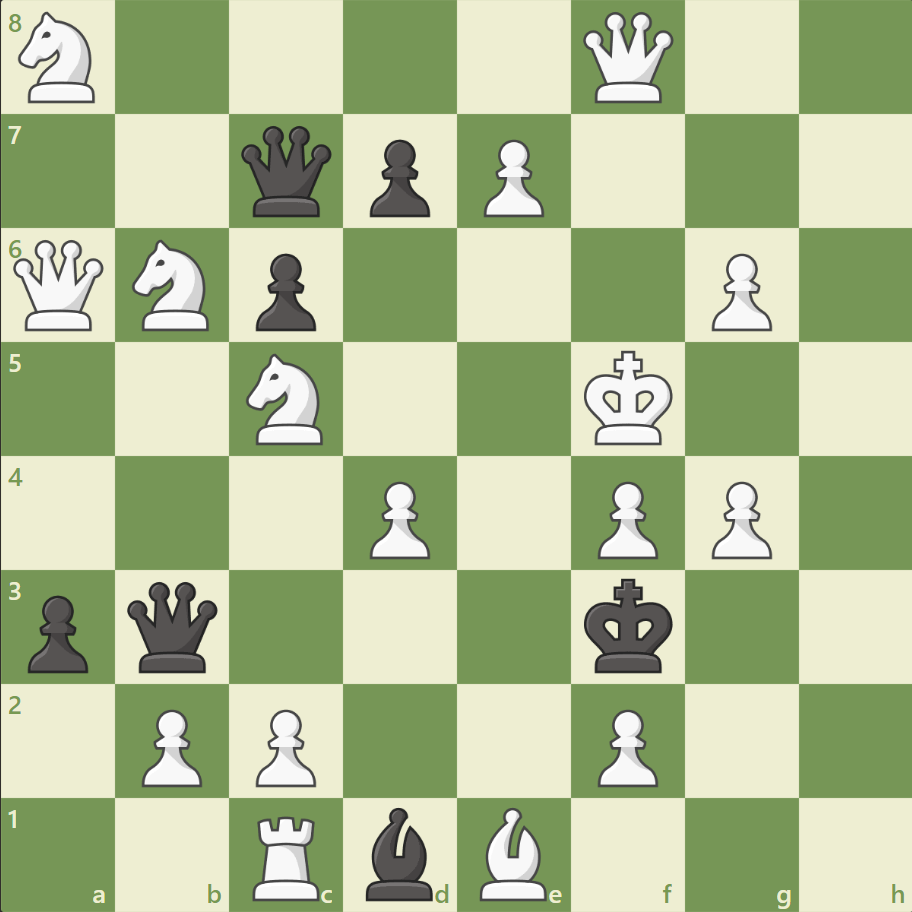B: (471, 801, 555, 904)
K: (579, 344, 679, 452)
N: (124, 234, 222, 337), (11, 7, 108, 110), (238, 348, 335, 450)
P: (474, 132, 549, 223), (701, 246, 776, 337), (701, 473, 776, 564), (133, 700, 208, 791), (247, 700, 322, 791), (361, 473, 435, 564), (588, 473, 662, 564), (588, 700, 662, 791)
Q: (578, 9, 677, 108), (10, 236, 109, 335)
R: (246, 806, 329, 904)
b: (358, 801, 442, 904)
k: (579, 571, 679, 679)
p: (247, 246, 322, 337), (20, 586, 95, 677), (361, 132, 435, 223)
q: (237, 122, 336, 222), (124, 576, 223, 676)
